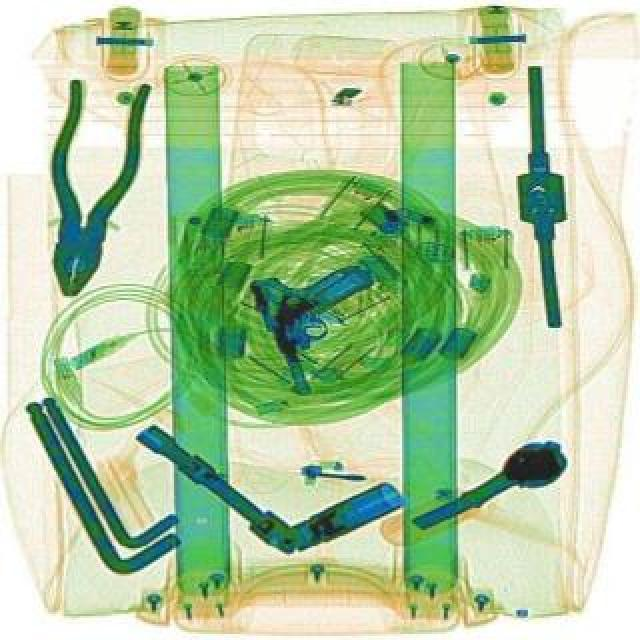gun: (248, 248, 404, 400)
wrench: (26, 76, 152, 304)
